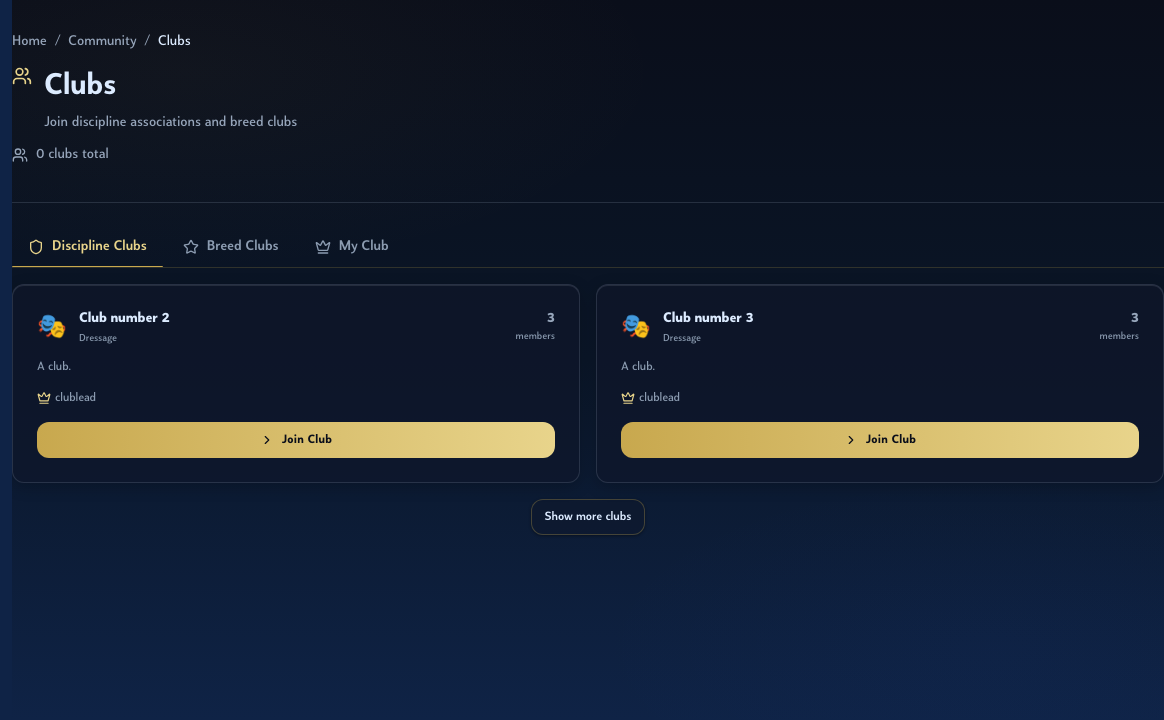
Test: ClubsPage paging (Equoria-uob0o) › offers the next page by the server cursor and joins it to the clubs on screen
Check: the heading "Club number 2" is shown, box [79,309,170,329]
Check: the text "Club number 1" is not shown
Click the button "Show more clubs": (588, 516) [532,498,645,534]
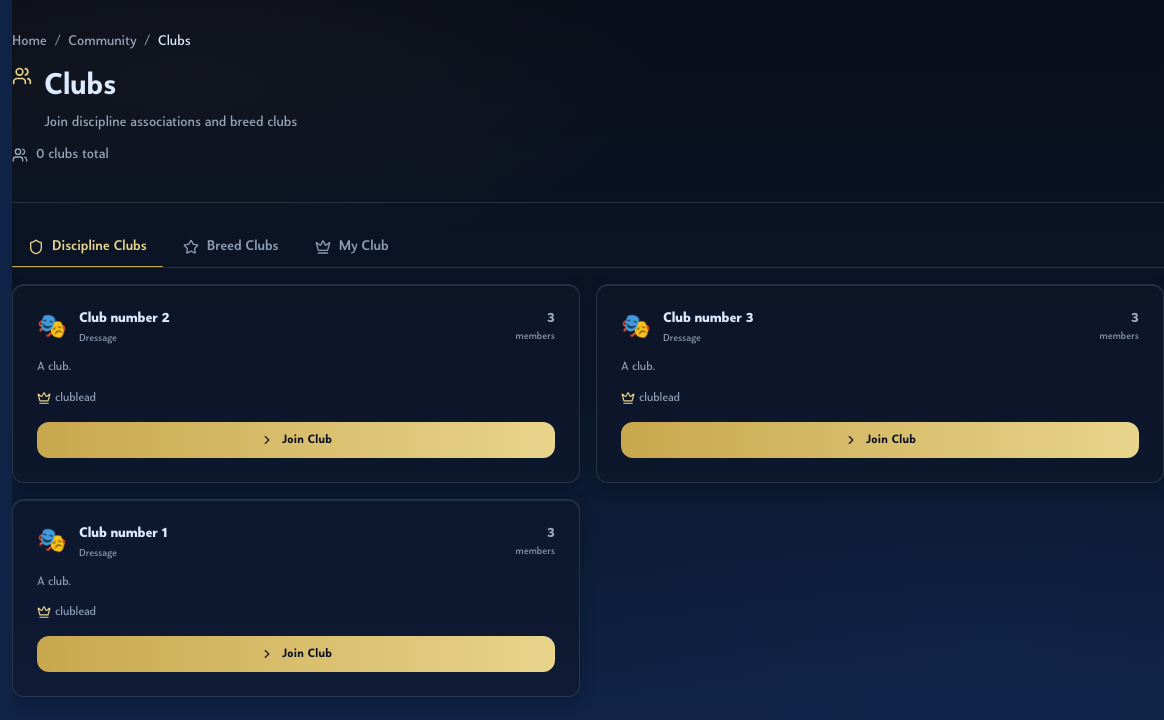
Check: the heading "Club number 2" is shown, box [79,309,170,329]
Check: the heading "Club number 1" is shown, box [79,524,168,544]
Check: the button "Show more clubs" is gone
